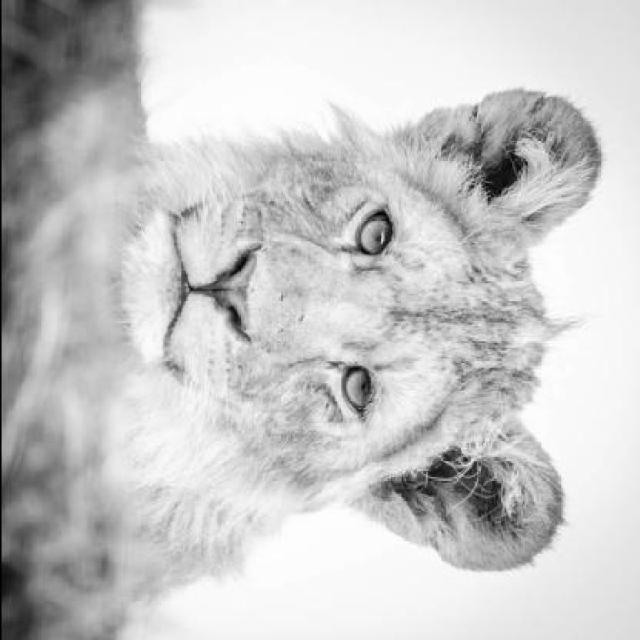Lion: (1, 26, 612, 639)
